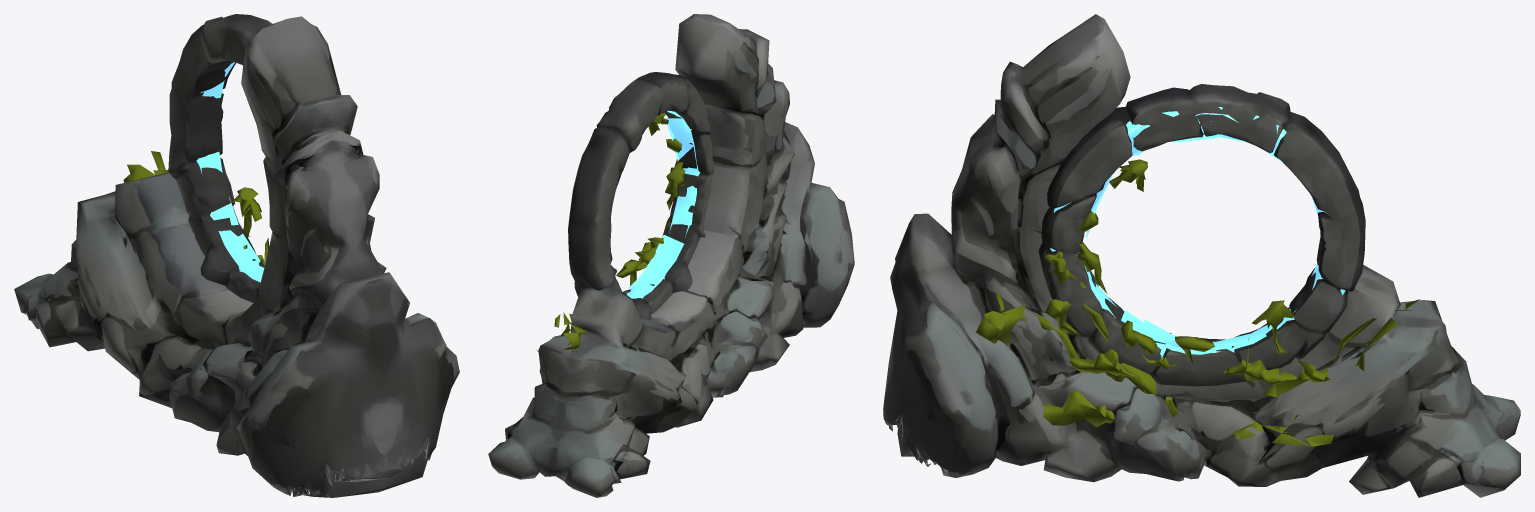
Rendered from portalemagico.glb.
3 renders of one model, left to right at view 1: azimuth 30°, elevation 25°; view 2: azimuth 150°, elevation 25°; view 3: azimuth 270°, elevation 25°, orthographic. The views are drawn at different scales.
Visible parts, largest first — view 1: tripo_node_2d108282-04e1-4f86-b902-c9bf9794697c; view 2: tripo_node_2d108282-04e1-4f86-b902-c9bf9794697c; view 3: tripo_node_2d108282-04e1-4f86-b902-c9bf9794697c.
Part boxes in pixels (<box>): tripo_node_2d108282-04e1-4f86-b902-c9bf9794697c: <box>14,14,459,497</box>; tripo_node_2d108282-04e1-4f86-b902-c9bf9794697c: <box>488,14,854,497</box>; tripo_node_2d108282-04e1-4f86-b902-c9bf9794697c: <box>883,14,1520,497</box>.
Bounding box in the file's own units: 0.7546 × 1.49 × 1.91.
4 materials, 4 textured.
